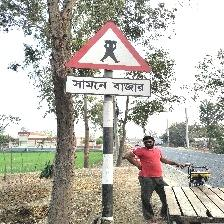Market-in-front: (64, 21, 153, 99)
